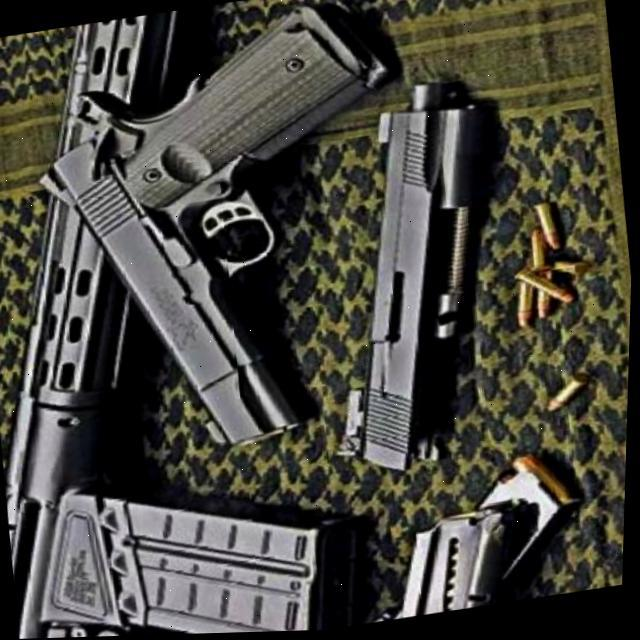gun: (10, 0, 427, 475)
